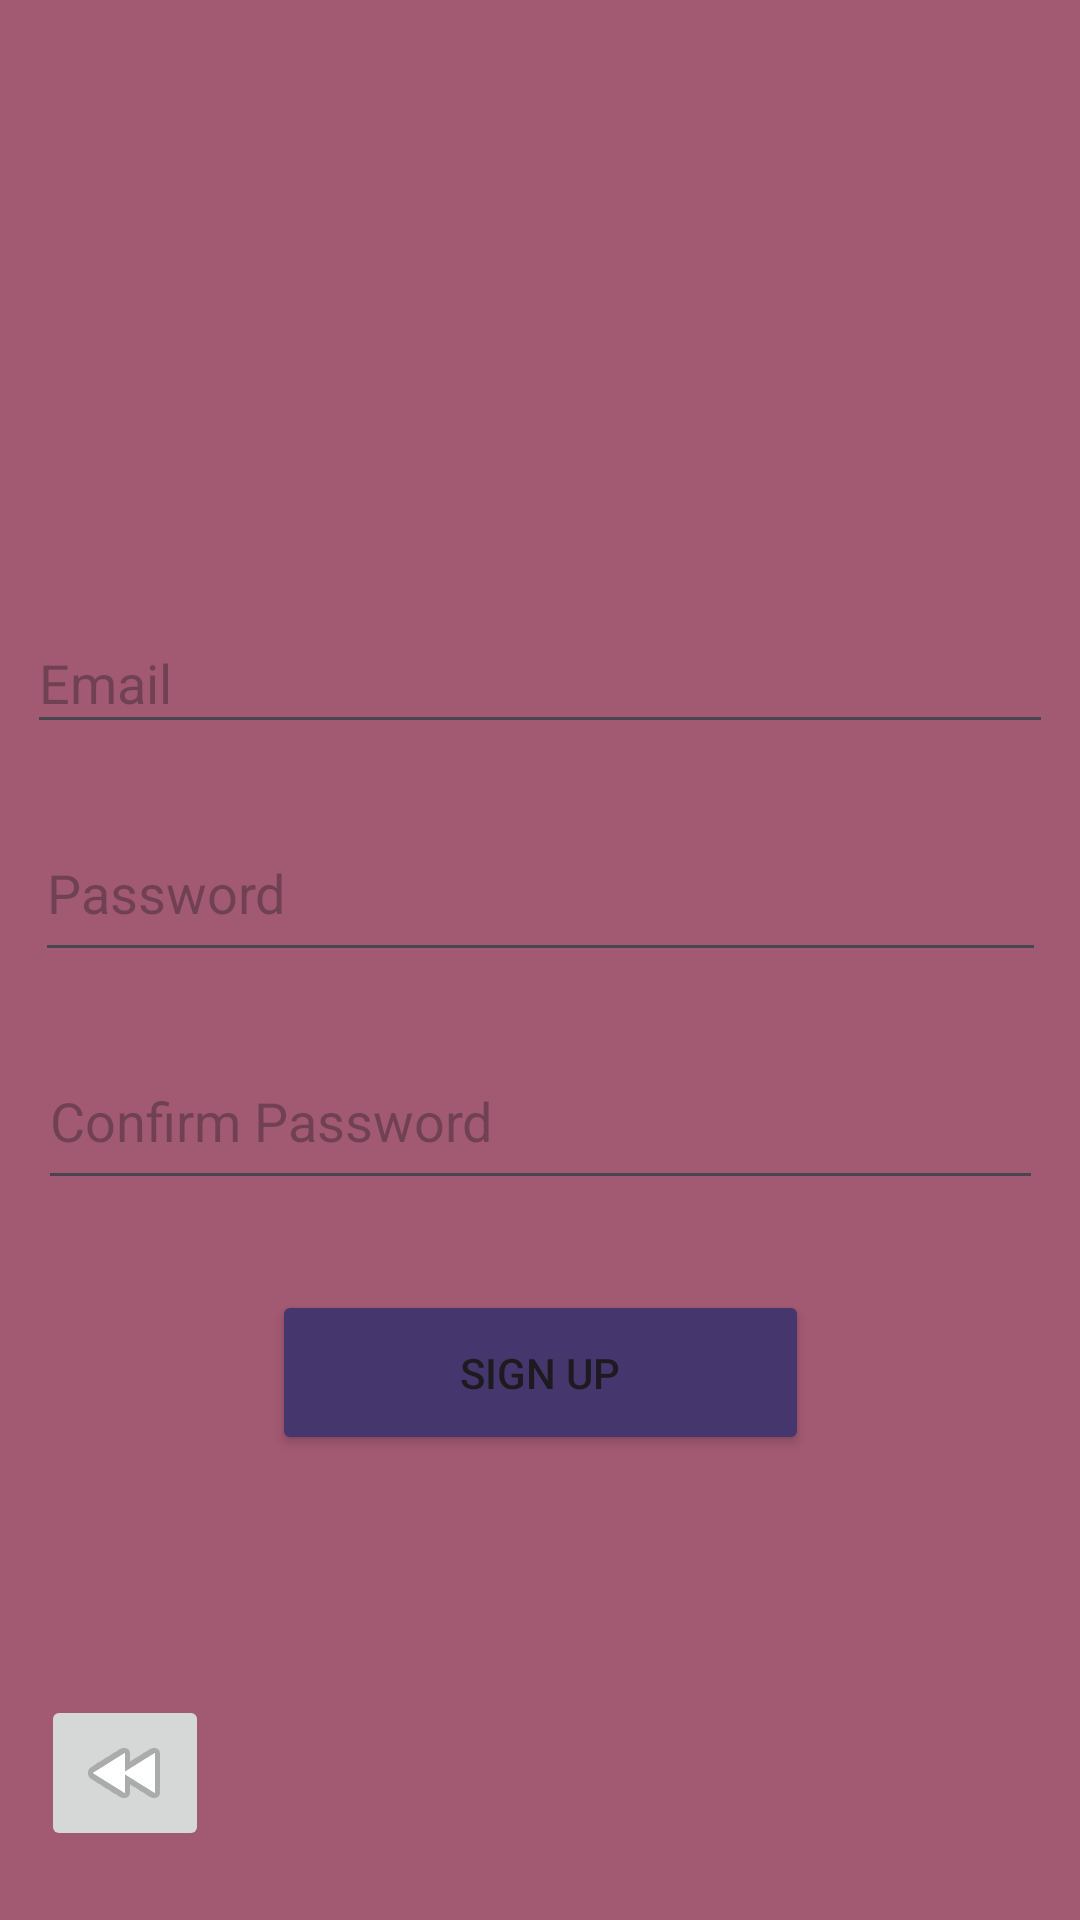

Where to tap for icons on this 1080w x 1920h app screen, as (x,y):
rew: (125,1773)
